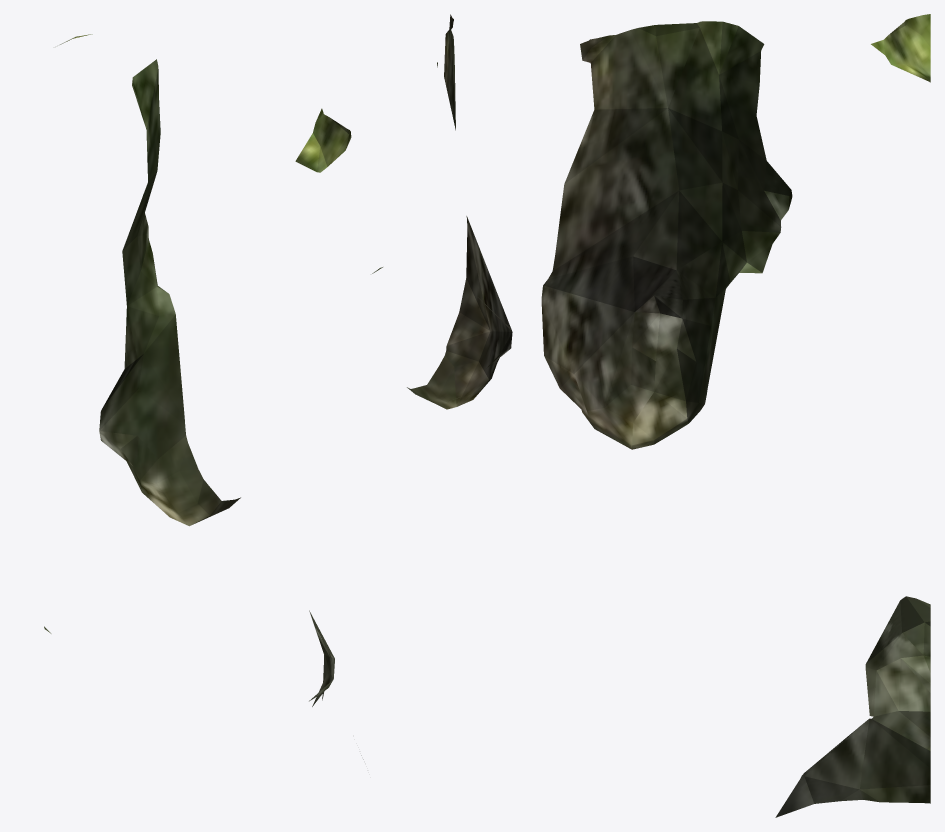
3 renders of one model, left to right at view 1: azimuth 30°, elevation 25°; view 2: azimuth 150°, elevation 25°; view 3: azimuth 270°, elevation 25°, orthographic. The views are drawn at different scales.
Bounding box in the file's own units: 0.4341 × 2.95 × 1.34.
1 material, 1 textured.
